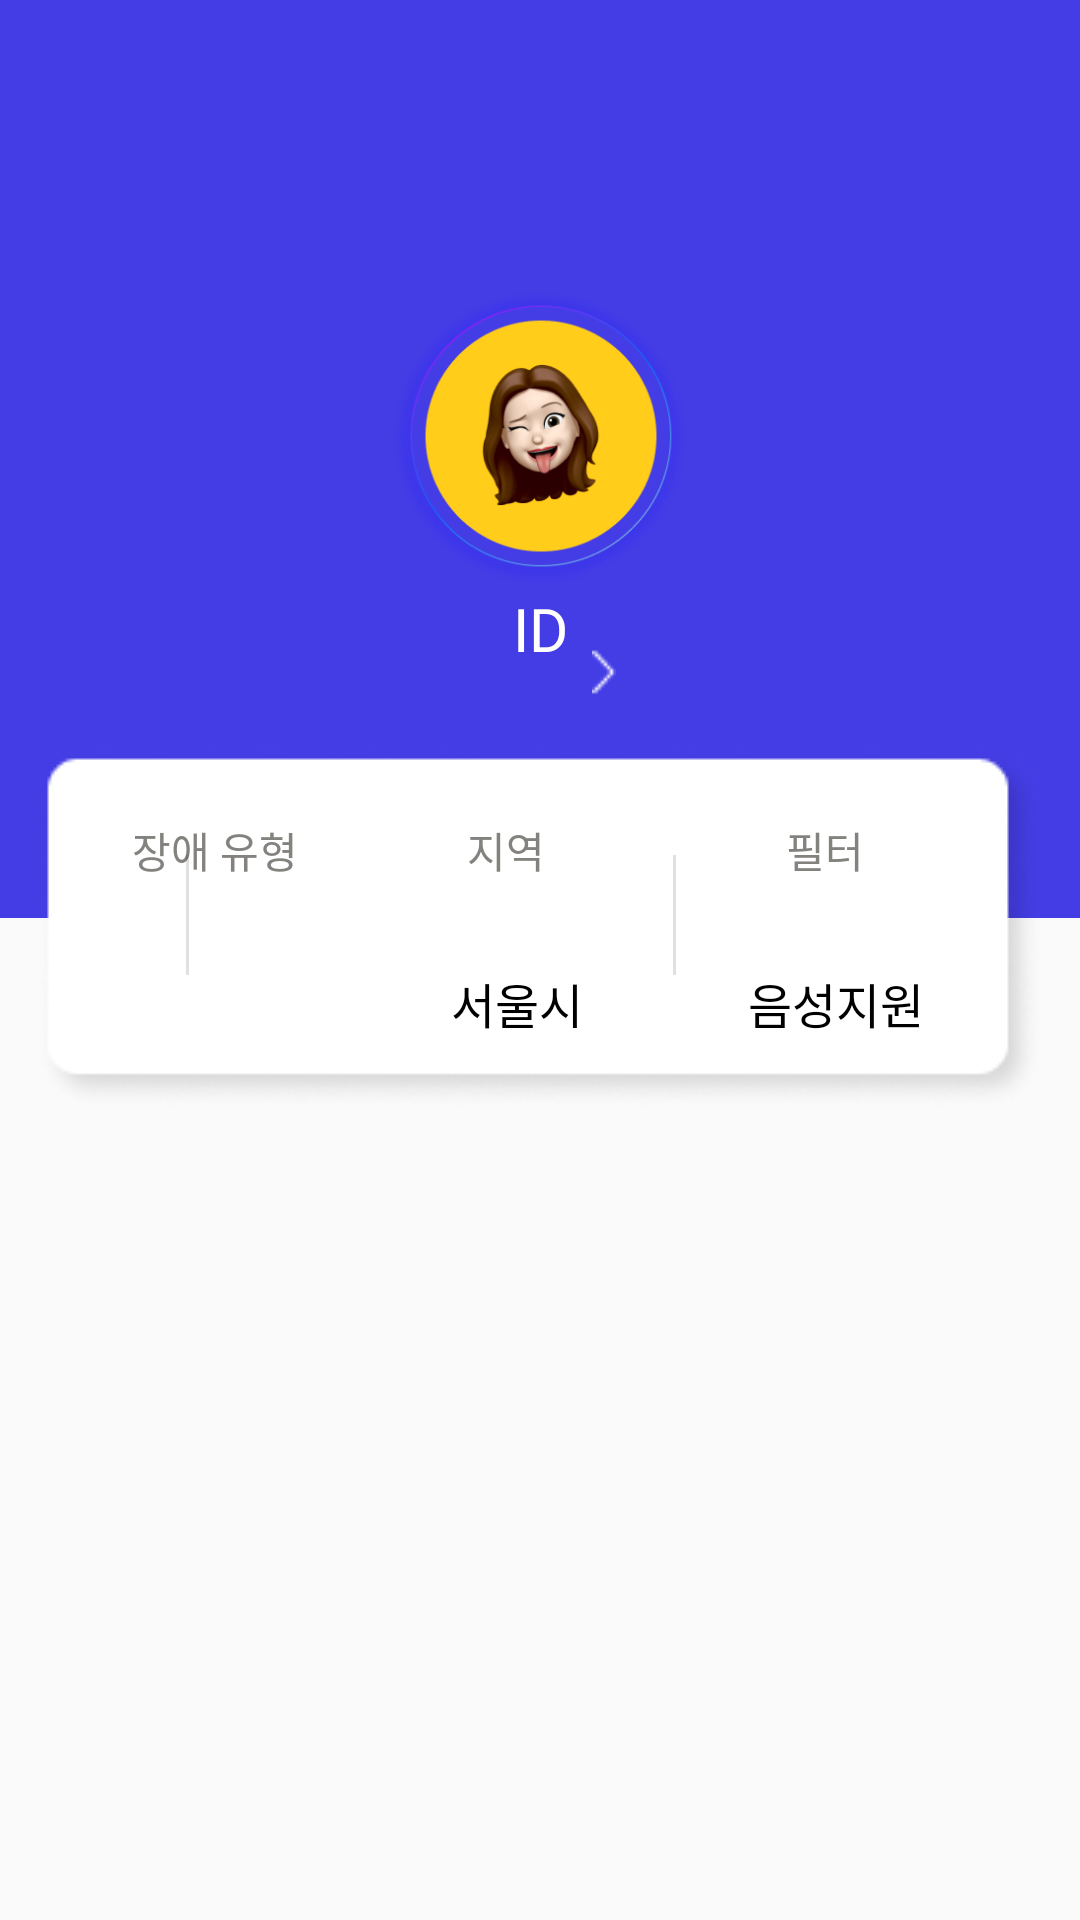

Point at icon controls on the screen. Image size 1080×1920, points as point (x, y).
mypage arrow: point (603, 672)
